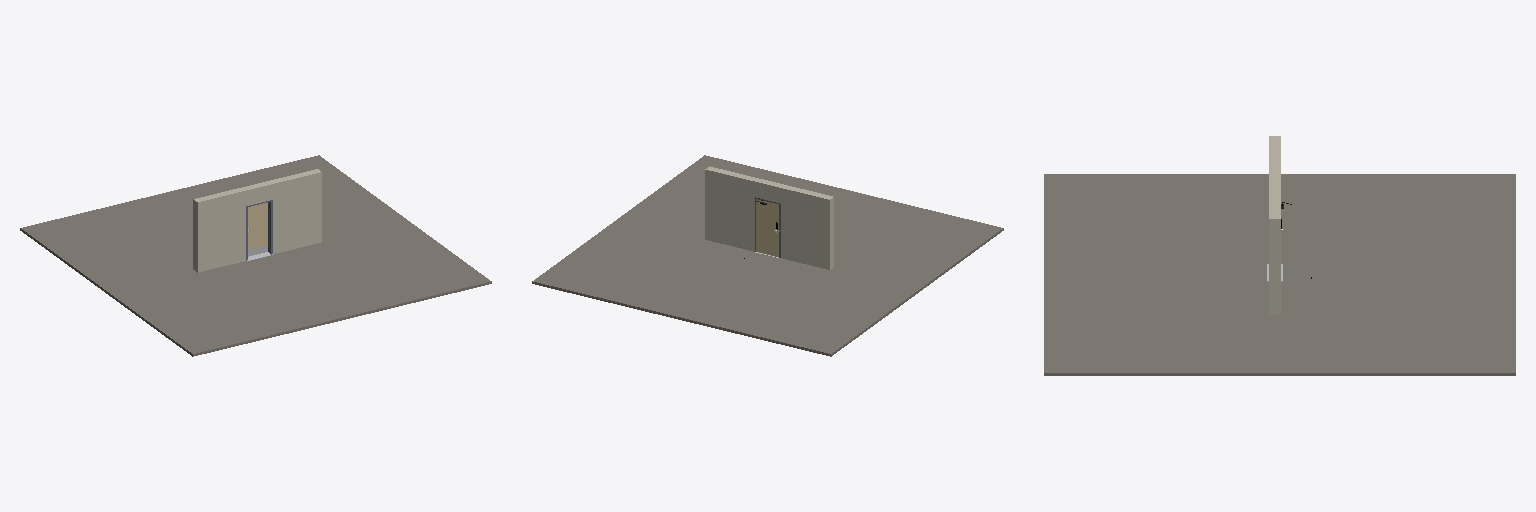
URDF robot description (db0061_swing_single_full):
<?xml version="1.0" ?>
<robot xmlns:doorbench="https://github.com/adamraudonis/DoorBench/schema/urdf-ext" name="db0061_swing_single_full">
  <link name="world_env">
    <visual name="floor_vis">
      <origin xyz="0 0 -0.05" rpy="0 0 0"/>
      <geometry>
        <box size="12 12 0.1"/>
      </geometry>
      <material name="mat_floor"/>
    </visual>
    <collision name="floor_col">
      <origin xyz="0 0 -0.05" rpy="0 0 0"/>
      <geometry>
        <box size="12 12 0.1"/>
      </geometry>
    </collision>
    <visual name="wall_left_vis">
      <origin xyz="-1.52025 -0.121 1.35" rpy="0 0 0"/>
      <geometry>
        <box size="1.9595 0.3 2.7"/>
      </geometry>
      <material name="mat_wall"/>
    </visual>
    <collision name="wall_left_col">
      <origin xyz="-1.52025 -0.121 1.35" rpy="0 0 0"/>
      <geometry>
        <box size="1.9595 0.3 2.7"/>
      </geometry>
    </collision>
    <visual name="wall_right_vis">
      <origin xyz="1.50525 -0.121 1.35" rpy="0 0 0"/>
      <geometry>
        <box size="1.9895 0.3 2.7"/>
      </geometry>
      <material name="mat_wall"/>
    </visual>
    <collision name="wall_right_col">
      <origin xyz="1.50525 -0.121 1.35" rpy="0 0 0"/>
      <geometry>
        <box size="1.9895 0.3 2.7"/>
      </geometry>
    </collision>
    <visual name="wall_header_vis">
      <origin xyz="-0.015 -0.121 2.4125" rpy="0 0 0"/>
      <geometry>
        <box size="1.051 0.3 0.575"/>
      </geometry>
      <material name="mat_wall"/>
    </visual>
    <collision name="wall_header_col">
      <origin xyz="-0.015 -0.121 2.4125" rpy="0 0 0"/>
      <geometry>
        <box size="1.051 0.3 0.575"/>
      </geometry>
    </collision>
    <visual name="hinge_0_jamb_vis">
      <origin xyz="0.4575 0.029 0.259" rpy="0 0 3.141593"/>
      <geometry>
        <mesh filename="../../hardware/hinge_jamb_e1d088f8dc.obj"/>
      </geometry>
      <material name="mat_hinge"/>
    </visual>
    <visual name="hinge_1_jamb_vis">
      <origin xyz="0.4575 0.029 1.025" rpy="0 0 3.141593"/>
      <geometry>
        <mesh filename="../../hardware/hinge_jamb_e1d088f8dc.obj"/>
      </geometry>
      <material name="mat_hinge"/>
    </visual>
    <visual name="hinge_2_jamb_vis">
      <origin xyz="0.4575 0.029 1.861" rpy="0 0 3.141593"/>
      <geometry>
        <mesh filename="../../hardware/hinge_jamb_e1d088f8dc.obj"/>
      </geometry>
      <material name="mat_hinge"/>
    </visual>
    <visual name="jamb_hinge_vis">
      <origin xyz="0.4855 -0.121 1.0225" rpy="0 0 0"/>
      <geometry>
        <box size="0.05 0.3 2.045"/>
      </geometry>
      <material name="mat_frame"/>
    </visual>
    <collision name="jamb_hinge_col">
      <origin xyz="0.4855 -0.121 1.0225" rpy="0 0 0"/>
      <geometry>
        <box size="0.05 0.3 2.045"/>
      </geometry>
    </collision>
    <visual name="strike_1040_wall_n_vis">
      <origin xyz="-0.5005 -0.14025 1.04" rpy="0 0 0"/>
      <geometry>
        <box size="0.08 0.2615 0.036"/>
      </geometry>
      <material name="mat_frame"/>
    </visual>
    <collision name="strike_1040_wall_n_col">
      <origin xyz="-0.5005 -0.14025 1.04" rpy="0 0 0"/>
      <geometry>
        <box size="0.08 0.2615 0.036"/>
      </geometry>
    </collision>
    <visual name="strike_1040_wall_p_vis">
      <origin xyz="-0.5005 0.0175 1.04" rpy="0 0 0"/>
      <geometry>
        <box size="0.08 0.016 0.036"/>
      </geometry>
      <material name="mat_frame"/>
    </visual>
    <collision name="strike_1040_wall_p_col">
      <origin xyz="-0.5005 0.0175 1.04" rpy="0 0 0"/>
      <geometry>
        <box size="0.08 0.016 0.036"/>
      </geometry>
    </collision>
    <visual name="strike_1040_ramp_vis">
      <origin xyz="-0.503782 0.018312 1.04" rpy="0 0 0.588003"/>
      <geometry>
        <box size="0.08 0.036056 0.036"/>
      </geometry>
      <material name="mat_frame"/>
    </visual>
    <collision name="strike_1040_ramp_col">
      <origin xyz="-0.503782 0.018312 1.04" rpy="0 0 0.588003"/>
      <geometry>
        <box size="0.08 0.036056 0.036"/>
      </geometry>
    </collision>
    <visual name="strike_1040_back_vis">
      <origin xyz="-0.512 0 1.04" rpy="0 0 0"/>
      <geometry>
        <box size="0.057 0.019 0.036"/>
      </geometry>
      <material name="mat_frame"/>
    </visual>
    <collision name="strike_1040_back_col">
      <origin xyz="-0.512 0 1.04" rpy="0 0 0"/>
      <geometry>
        <box size="0.057 0.019 0.036"/>
      </geometry>
    </collision>
    <visual name="jamb_strike_0_vis">
      <origin xyz="-0.5005 -0.121 0.511" rpy="0 0 0"/>
      <geometry>
        <box size="0.08 0.3 1.022"/>
      </geometry>
      <material name="mat_frame"/>
    </visual>
    <collision name="jamb_strike_0_col">
      <origin xyz="-0.5005 -0.121 0.511" rpy="0 0 0"/>
      <geometry>
        <box size="0.08 0.3 1.022"/>
      </geometry>
    </collision>
    <visual name="jamb_strike_1_vis">
      <origin xyz="-0.5005 -0.121 1.5515" rpy="0 0 0"/>
      <geometry>
        <box size="0.08 0.3 0.987"/>
      </geometry>
      <material name="mat_frame"/>
    </visual>
    <collision name="jamb_strike_1_col">
      <origin xyz="-0.5005 -0.121 1.5515" rpy="0 0 0"/>
      <geometry>
        <box size="0.08 0.3 0.987"/>
      </geometry>
    </collision>
    <visual name="jamb_head_vis">
      <origin xyz="-0.015 -0.121 2.07" rpy="0 0 0"/>
      <geometry>
        <box size="1.051 0.3 0.05"/>
      </geometry>
      <material name="mat_frame"/>
    </visual>
    <collision name="jamb_head_col">
      <origin xyz="-0.015 -0.121 2.07" rpy="0 0 0"/>
      <geometry>
        <box size="1.051 0.3 0.05"/>
      </geometry>
    </collision>
    <visual name="head_stud_vis">
      <origin xyz="-0.015 -0.121 2.11" rpy="0 0 0"/>
      <geometry>
        <box size="1.051 0.3 0.03"/>
      </geometry>
      <material name="mat_wall"/>
    </visual>
    <collision name="head_stud_col">
      <origin xyz="-0.015 -0.121 2.11" rpy="0 0 0"/>
      <geometry>
        <box size="1.051 0.3 0.03"/>
      </geometry>
    </collision>
    <visual name="stop_hinge_vis">
      <origin xyz="0.455 -0.0385 1.0225" rpy="0 0 0"/>
      <geometry>
        <box size="0.011 0.032 2.045"/>
      </geometry>
      <material name="mat_frame"/>
    </visual>
    <collision name="stop_hinge_col">
      <origin xyz="0.455 -0.0385 1.0225" rpy="0 0 0"/>
      <geometry>
        <box size="0.011 0.032 2.045"/>
      </geometry>
    </collision>
    <visual name="stop_strike_vis">
      <origin xyz="-0.455 -0.0385 1.0225" rpy="0 0 0"/>
      <geometry>
        <box size="0.011 0.032 2.045"/>
      </geometry>
      <material name="mat_frame"/>
    </visual>
    <collision name="stop_strike_col">
      <origin xyz="-0.455 -0.0385 1.0225" rpy="0 0 0"/>
      <geometry>
        <box size="0.011 0.032 2.045"/>
      </geometry>
    </collision>
    <visual name="stop_head_vis">
      <origin xyz="0 -0.0385 2.0395" rpy="0 0 0"/>
      <geometry>
        <box size="0.921 0.032 0.011"/>
      </geometry>
      <material name="mat_frame"/>
    </visual>
    <collision name="stop_head_col">
      <origin xyz="0 -0.0385 2.0395" rpy="0 0 0"/>
      <geometry>
        <box size="0.921 0.032 0.011"/>
      </geometry>
    </collision>
    <visual name="seal_hinge_vis">
      <origin xyz="0.4575 -0.0245 1.0225" rpy="0 0 0"/>
      <geometry>
        <box size="0.008 0.005 2.045"/>
      </geometry>
      <material name="mat_seal"/>
    </visual>
    <visual name="seal_strike_vis">
      <origin xyz="-0.4575 -0.0245 1.0225" rpy="0 0 0"/>
      <geometry>
        <box size="0.008 0.005 2.045"/>
      </geometry>
      <material name="mat_seal"/>
    </visual>
    <visual name="seal_head_vis">
      <origin xyz="0 -0.0245 2.033" rpy="0 0 0"/>
      <geometry>
        <box size="0.881 0.005 0.016"/>
      </geometry>
      <material name="mat_seal"/>
    </visual>
    <visual name="threshold_vis">
      <origin xyz="0 -0.121 0.004" rpy="0 0 0"/>
      <geometry>
        <box size="1.021 0.4 0.008"/>
      </geometry>
      <material name="mat_threshold"/>
    </visual>
    <collision name="threshold_col">
      <origin xyz="0 -0.121 0.004" rpy="0 0 0"/>
      <geometry>
        <box size="1.021 0.4 0.008"/>
      </geometry>
    </collision>
    <visual name="closer_bracket_vis">
      <origin xyz="0.3605 0.041 2.075" rpy="0 0 0"/>
      <geometry>
        <box size="0.06 0.024 0.028"/>
      </geometry>
      <material name="mat_closer"/>
    </visual>
    <visual name="door_stop_base_vis">
      <origin xyz="0.4735 0.8059 0.003" rpy="0 0 0"/>
      <geometry>
        <cylinder radius="0.022" length="0.006"/>
      </geometry>
      <material name="mat_stop_base"/>
    </visual>
    <collision name="door_stop_base_col">
      <origin xyz="0.4735 0.8059 0.003" rpy="0 0 0"/>
      <geometry>
        <cylinder radius="0.022" length="0.006"/>
      </geometry>
    </collision>
    <visual name="door_stop_post_vis">
      <origin xyz="0.4735 0.8059 0.0305" rpy="0 0 0"/>
      <geometry>
        <cylinder radius="0.012" length="0.049"/>
      </geometry>
      <material name="mat_stop_base"/>
    </visual>
    <collision name="door_stop_post_col">
      <origin xyz="0.4735 0.8059 0.0305" rpy="0 0 0"/>
      <geometry>
        <cylinder radius="0.012" length="0.049"/>
      </geometry>
    </collision>
    <visual name="door_stop_bumper_vis">
      <origin xyz="0.4735 0.8059 0.075" rpy="0 0 0"/>
      <geometry>
        <cylinder radius="0.022" length="0.04"/>
      </geometry>
      <material name="mat_bumper_stop"/>
    </visual>
    <collision name="door_stop_bumper_col">
      <origin xyz="0.4735 0.8059 0.075" rpy="0 0 0"/>
      <geometry>
        <cylinder radius="0.022" length="0.04"/>
      </geometry>
    </collision>
  </link>
  <link name="leaf">
    <inertial>
      <origin xyz="-0.439514 -0.021922 1.103407" rpy="0 0 0"/>
      <mass value="62.154049"/>
      <inertia ixx="25.702780846" ixy="-0.062807688" ixz="-0.977239613" iyy="29.834096126" iyz="-0.448382271" izz="4.211845018"/>
    </inertial>
    <visual name="leaf_slab_vis">
      <origin xyz="-0.457 -0.029 1.025" rpy="0 0 0"/>
      <geometry>
        <box size="0.914 0.044 2.032"/>
      </geometry>
      <material name="mat_leaf"/>
    </visual>
    <collision name="leaf_slab_col">
      <origin xyz="-0.457 -0.029 1.025" rpy="0 0 0"/>
      <geometry>
        <box size="0.914 0.044 2.032"/>
      </geometry>
    </collision>
    <visual name="hinge_0_vis">
      <origin xyz="0 0 0.259" rpy="0 0 3.141593"/>
      <geometry>
        <mesh filename="../../hardware/hinge_e22b26c0c1.obj"/>
      </geometry>
      <material name="mat_hinge"/>
    </visual>
    <visual name="hinge_1_vis">
      <origin xyz="0 0 1.025" rpy="0 0 3.141593"/>
      <geometry>
        <mesh filename="../../hardware/hinge_e22b26c0c1.obj"/>
      </geometry>
      <material name="mat_hinge"/>
    </visual>
    <visual name="hinge_2_vis">
      <origin xyz="0 0 1.861" rpy="0 0 3.141593"/>
      <geometry>
        <mesh filename="../../hardware/hinge_e22b26c0c1.obj"/>
      </geometry>
      <material name="mat_hinge"/>
    </visual>
    <visual name="leaf_handle_escutcheon_n_vis">
      <origin xyz="-0.844 -0.0525 1.04" rpy="0 0 0"/>
      <geometry>
        <box size="0.075 0.003 0.26"/>
      </geometry>
      <material name="mat_op_chrome"/>
    </visual>
    <visual name="leaf_handle_escutcheon_p_vis">
      <origin xyz="-0.844 -0.0055 1.04" rpy="0 0 0"/>
      <geometry>
        <box size="0.075 0.003 0.26"/>
      </geometry>
      <material name="mat_op_chrome"/>
    </visual>
    <visual name="leaf_handle_reader_vis">
      <origin xyz="-0.844 -0.007 1.2" rpy="1.570796 0 3.141593"/>
      <geometry>
        <mesh filename="../../hardware/card_reader_38c0bdb077.obj"/>
      </geometry>
      <material name="mat_reader"/>
    </visual>
    <visual name="leaf_latch_bolt_faceplate_vis">
      <origin xyz="-0.9134 -0.029 1.04" rpy="0 0 0"/>
      <geometry>
        <box size="0.0012 0.028 0.056"/>
      </geometry>
      <material name="mat_bolt"/>
    </visual>
    <visual name="closer_body_vis">
      <origin xyz="-0.297 -0.007 1.952" rpy="1.570796 0 3.141593"/>
      <geometry>
        <mesh filename="../../hardware/closer_body_b226fdb10b.obj"/>
      </geometry>
      <material name="mat_closer"/>
    </visual>
    <collision name="closer_body_col_col">
      <origin xyz="-0.297 0.033 1.952" rpy="0 0 0"/>
      <geometry>
        <box size="0.24 0.08 0.06"/>
      </geometry>
    </collision>
    <visual name="closer_pinion_shaft_vis">
      <origin xyz="-0.297 0.035 2.0135" rpy="0 0 0"/>
      <geometry>
        <cylinder radius="0.008" length="0.123"/>
      </geometry>
      <material name="mat_closer"/>
    </visual>
    <visual name="kick_plate_n_vis">
      <origin xyz="-0.457 -0.0518 0.144" rpy="0 0 0"/>
      <geometry>
        <box size="0.854 0.0016 0.25"/>
      </geometry>
      <material name="mat_kick"/>
    </visual>
    <visual name="peephole_vis">
      <origin xyz="-0.457 -0.051 1.509" rpy="-1.570796 0 3.141593"/>
      <geometry>
        <mesh filename="../../hardware/peephole_f829311a59.obj"/>
      </geometry>
      <material name="mat_peephole"/>
    </visual>
  </link>
  <link name="leaf_handle">
    <inertial>
      <origin xyz="0.034904 0 0" rpy="0 0 0"/>
      <mass value="0.739068"/>
      <inertia ixx="0.003272501" ixy="0" ixz="0" iyy="0.001260094" iyz="0" izz="0.004494637"/>
    </inertial>
    <visual name="leaf_handle_spindle_vis">
      <origin xyz="0 0 0" rpy="-1.570796 0 0"/>
      <geometry>
        <cylinder radius="0.006" length="0.068"/>
      </geometry>
      <material name="mat_op_chrome"/>
    </visual>
    <visual name="leaf_handle_lever_n_vis">
      <origin xyz="0 -0.022 0" rpy="-1.570796 0 3.141593"/>
      <geometry>
        <mesh filename="../../hardware/lever_56c65af20a.obj"/>
      </geometry>
      <material name="mat_op_chrome"/>
    </visual>
    <collision name="leaf_handle_lever_col_n_col">
      <origin xyz="0.06 -0.077 0" rpy="0 1.570796 0"/>
      <geometry>
        <cylinder radius="0.0095" length="0.101"/>
      </geometry>
    </collision>
    <collision name="leaf_handle_hub_col_n_col">
      <origin xyz="0 -0.052 0" rpy="-1.570796 0 0"/>
      <geometry>
        <cylinder radius="0.012" length="0.044"/>
      </geometry>
    </collision>
    <visual name="leaf_handle_lever_p_vis">
      <origin xyz="0 0.022 0" rpy="1.570796 0 3.141593"/>
      <geometry>
        <mesh filename="../../hardware/lever_56c65af20a.obj"/>
      </geometry>
      <material name="mat_op_chrome"/>
    </visual>
    <collision name="leaf_handle_lever_col_p_col">
      <origin xyz="0.06 0.077 0" rpy="0 1.570796 0"/>
      <geometry>
        <cylinder radius="0.0095" length="0.101"/>
      </geometry>
    </collision>
    <collision name="leaf_handle_hub_col_p_col">
      <origin xyz="0 0.052 0" rpy="-1.570796 0 0"/>
      <geometry>
        <cylinder radius="0.012" length="0.044"/>
      </geometry>
    </collision>
  </link>
  <link name="leaf_latch_bolt">
    <inertial>
      <origin xyz="0.0055 0 0" rpy="0 0 0"/>
      <mass value="0.074627"/>
      <inertia ixx="0.000002271" ixy="0" ixz="0" iyy="0.000013255" iyz="0" izz="0.000013255"/>
    </inertial>
    <visual name="leaf_latch_bolt_capsule_vis">
      <origin xyz="0.0055 0 0" rpy="0 -1.570796 0"/>
      <geometry>
        <cylinder radius="0.008" length="0.033"/>
      </geometry>
      <material name="mat_bolt"/>
    </visual>
    <collision name="leaf_latch_bolt_capsule_col">
      <origin xyz="0.0055 0 0" rpy="0 -1.570796 0"/>
      <geometry>
        <cylinder radius="0.008" length="0.033"/>
      </geometry>
    </collision>
  </link>
  <link name="closer_arm_main">
    <inertial>
      <origin xyz="0.14 0 0" rpy="0 0 0"/>
      <mass value="0.12096"/>
      <inertia ixx="0.000003588" ixy="0" ixz="0" iyy="0.00079128" iyz="0" izz="0.000792852"/>
    </inertial>
    <visual name="closer_arm_main_geom_vis">
      <origin xyz="0.14 0 0" rpy="0 0 0"/>
      <geometry>
        <box size="0.28 0.016 0.01"/>
      </geometry>
      <material name="mat_closer"/>
    </visual>
  </link>
  <link name="closer_arm_fore">
    <inertial>
      <origin xyz="0.128088 0 0" rpy="0 0 0"/>
      <mass value="0.076531"/>
      <inertia ixx="0.000001771" ixy="0" ixz="0" iyy="0.000437665" iyz="0" izz="0.000438201"/>
    </inertial>
    <visual name="closer_arm_fore_geom_vis">
      <origin xyz="0.1125 0 0" rpy="0 0 0"/>
      <geometry>
        <box size="0.225 0.014 0.008"/>
      </geometry>
      <material name="mat_closer"/>
    </visual>
    <visual name="closer_fore_neck_vis">
      <origin xyz="0.2425 0 0" rpy="0 0 0"/>
      <geometry>
        <box size="0.035 0.006 0.006"/>
      </geometry>
      <material name="mat_closer"/>
    </visual>
    <visual name="closer_fore_pivot_vis">
      <origin xyz="0.26 0 0" rpy="0 0 0"/>
      <geometry>
        <cylinder radius="0.005" length="0.024"/>
      </geometry>
      <material name="mat_closer"/>
    </visual>
  </link>
  <joint name="leaf_hinge" type="revolute">
    <origin xyz="0.4575 0.029 0" rpy="0 0 0"/>
    <parent link="world_env"/>
    <child link="leaf"/>
    <axis xyz="0 0 -1"/>
    <limit lower="0" upper="1.570796" effort="2000" velocity="10"/>
    <dynamics damping="10.25611" friction="2.490077"/>
    <doorbench:spring stiffness="12.859719" springref="-2.527271" note="tau = -stiffness*(q - springref); not native URDF"/>
    <doorbench:closer damping_closing="63" damping_opening="10" backcheck_angle="1.31" backcheck_damping="45"/>
  </joint>
  <joint name="leaf_handle_hinge" type="revolute">
    <origin xyz="-0.844 -0.029 1.04" rpy="0 0 0"/>
    <parent link="leaf"/>
    <child link="leaf_handle"/>
    <axis xyz="0 1 0"/>
    <limit lower="0" upper="0.87" effort="2000" velocity="10"/>
    <dynamics damping="0.231314" friction="0.06"/>
    <doorbench:spring stiffness="1.1" springref="-0.454545" note="tau = -stiffness*(q - springref); not native URDF"/>
  </joint>
  <joint name="leaf_latch_bolt_slide" type="prismatic">
    <origin xyz="-0.914 -0.029 1.04" rpy="0 0 0"/>
    <parent link="leaf"/>
    <child link="leaf_latch_bolt"/>
    <axis xyz="1 0 0"/>
    <limit lower="0" upper="0.019" effort="5000" velocity="10"/>
    <dynamics damping="2" friction="0.3"/>
    <doorbench:spring stiffness="550" springref="-0.01" note="tau = -stiffness*(q - springref); not native URDF"/>
    <mimic joint="leaf_handle_hinge" multiplier="0.023457" offset="0"/>
    <doorbench:coupling one_sided="true" note="MJCF uses a one-sided tendon (bolt may retract further, e.g. riding over the strike lip); mimic is bilateral"/>
  </joint>
  <joint name="closer_pinion" type="continuous">
    <origin xyz="-0.297 0.035 2.075" rpy="0 0 0.983597"/>
    <parent link="leaf"/>
    <child link="closer_arm_main"/>
    <axis xyz="0 0 1"/>
    <dynamics damping="0.01" friction="0"/>
  </joint>
  <joint name="closer_elbow" type="continuous">
    <origin xyz="0.28 0 0" rpy="0 0 -2.380944"/>
    <parent link="closer_arm_main"/>
    <child link="closer_arm_fore"/>
    <axis xyz="0 0 1"/>
    <dynamics damping="0.01" friction="0"/>
  </joint>
  <material name="mat_bolt">
    <color rgba="0.75 0.76 0.77 1"/>
  </material>
  <material name="mat_bumper_stop">
    <color rgba="0.08 0.08 0.08 1"/>
  </material>
  <material name="mat_closer">
    <color rgba="0.22 0.17 0.13 1"/>
  </material>
  <material name="mat_floor">
    <color rgba="0.55 0.53 0.5 1"/>
  </material>
  <material name="mat_frame">
    <color rgba="0.45 0.48 0.52 1"/>
  </material>
  <material name="mat_hinge">
    <color rgba="0.65 0.66 0.68 1"/>
  </material>
  <material name="mat_kick">
    <color rgba="0.75 0.76 0.77 1"/>
  </material>
  <material name="mat_leaf">
    <color rgba="0.82 0.75 0.62 1"/>
  </material>
  <material name="mat_op_chrome">
    <color rgba="0.9 0.9 0.92 1"/>
  </material>
  <material name="mat_peephole">
    <color rgba="0.85 0.66 0.3 1"/>
  </material>
  <material name="mat_reader">
    <color rgba="0.05 0.05 0.05 1"/>
  </material>
  <material name="mat_seal">
    <color rgba="0.1 0.1 0.1 1"/>
  </material>
  <material name="mat_stop_base">
    <color rgba="0.9 0.9 0.92 1"/>
  </material>
  <material name="mat_threshold">
    <color rgba="0.8 0.81 0.83 1"/>
  </material>
  <material name="mat_wall">
    <color rgba="0.78 0.76 0.7 1"/>
  </material>
  <doorbench:loop_closure body1="closer_arm_fore" body2="world" anchor="0.26 0 0" label="Closer forearm pinned to frame shoe"/>
</robot>

--- Facts derived from the render (not from the file) ---
The picture shows the robot from 3 angles, left to right: view 1: azimuth 30°, elevation 25°; view 2: azimuth 150°, elevation 25°; view 3: azimuth 270°, elevation 25°; orthographic projection.
Model db0061_swing_single_full with 6 links and 5 joints (2 revolute, 2 continuous, 1 prismatic), rooted at world_env, posed every joint at zero.
Links seen in each view (by area): view 1: world_env, leaf; view 2: world_env, leaf; view 3: world_env.
Link boxes in pixels (bbox=[...]): world_env: bbox=[20, 155, 491, 356]; leaf: bbox=[248, 202, 267, 256]; world_env: bbox=[532, 155, 1003, 356]; leaf: bbox=[756, 199, 778, 256]; world_env: bbox=[1044, 136, 1515, 375].
Size in the robot's own frame: 12 by 12 by 2.8 metres.
11 mesh visuals loaded from 6 distinct referenced files (6 OBJ).
